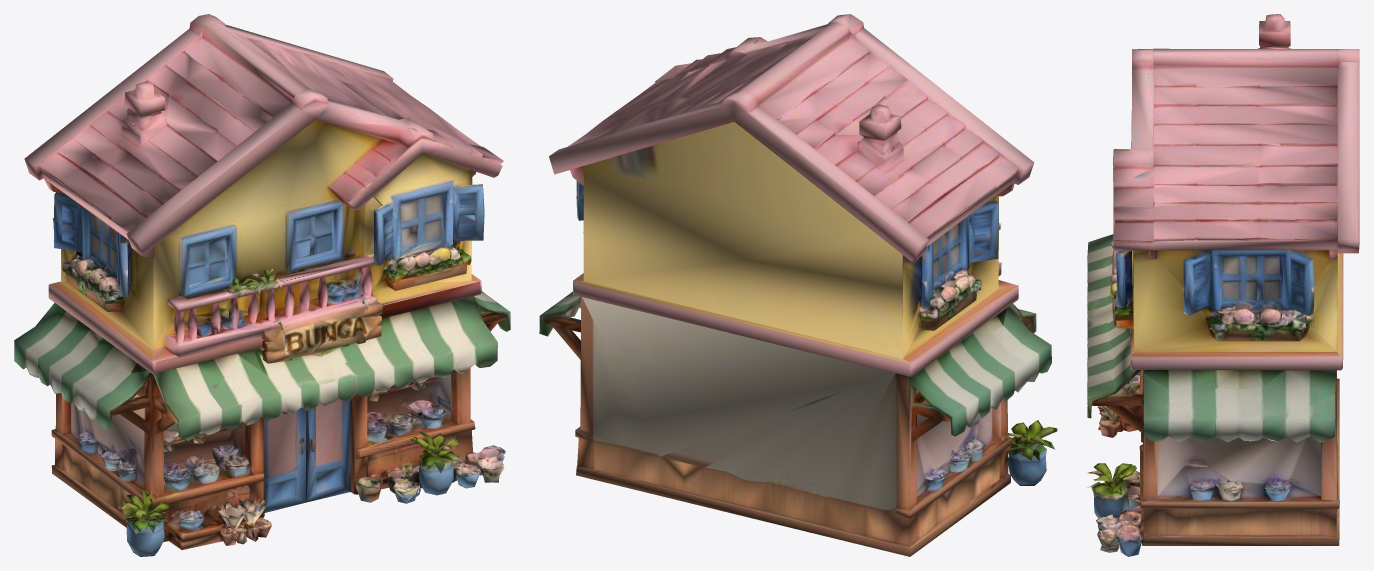
The model's file is bunga.glb.
3 renders of one model, left to right at view 1: azimuth 30°, elevation 25°; view 2: azimuth 150°, elevation 25°; view 3: azimuth 270°, elevation 25°, orthographic. The views are drawn at different scales.
Visible parts, largest first — view 1: node_0; view 2: node_0; view 3: node_0.
Part boxes in pixels (x1,y1,x2,y2): node_0: (14, 14, 510, 556); node_0: (539, 14, 1057, 556); node_0: (1087, 14, 1359, 556).
Bounding box in the file's own units: 0.8567 × 0.8438 × 0.5001.
Materials: 1 (1 with a texture image).
